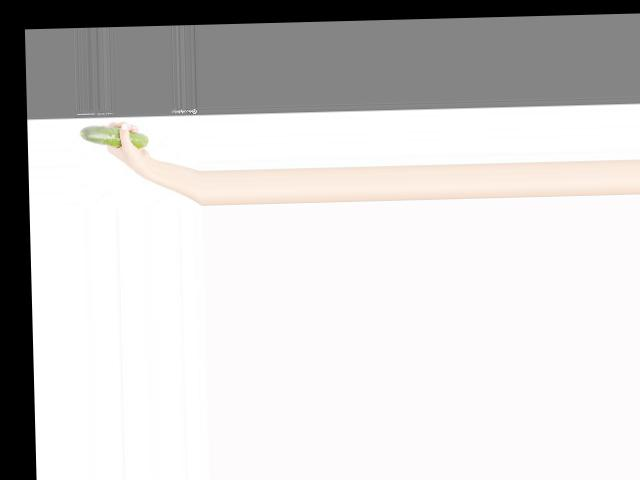cucumber: (78, 123, 148, 149)
